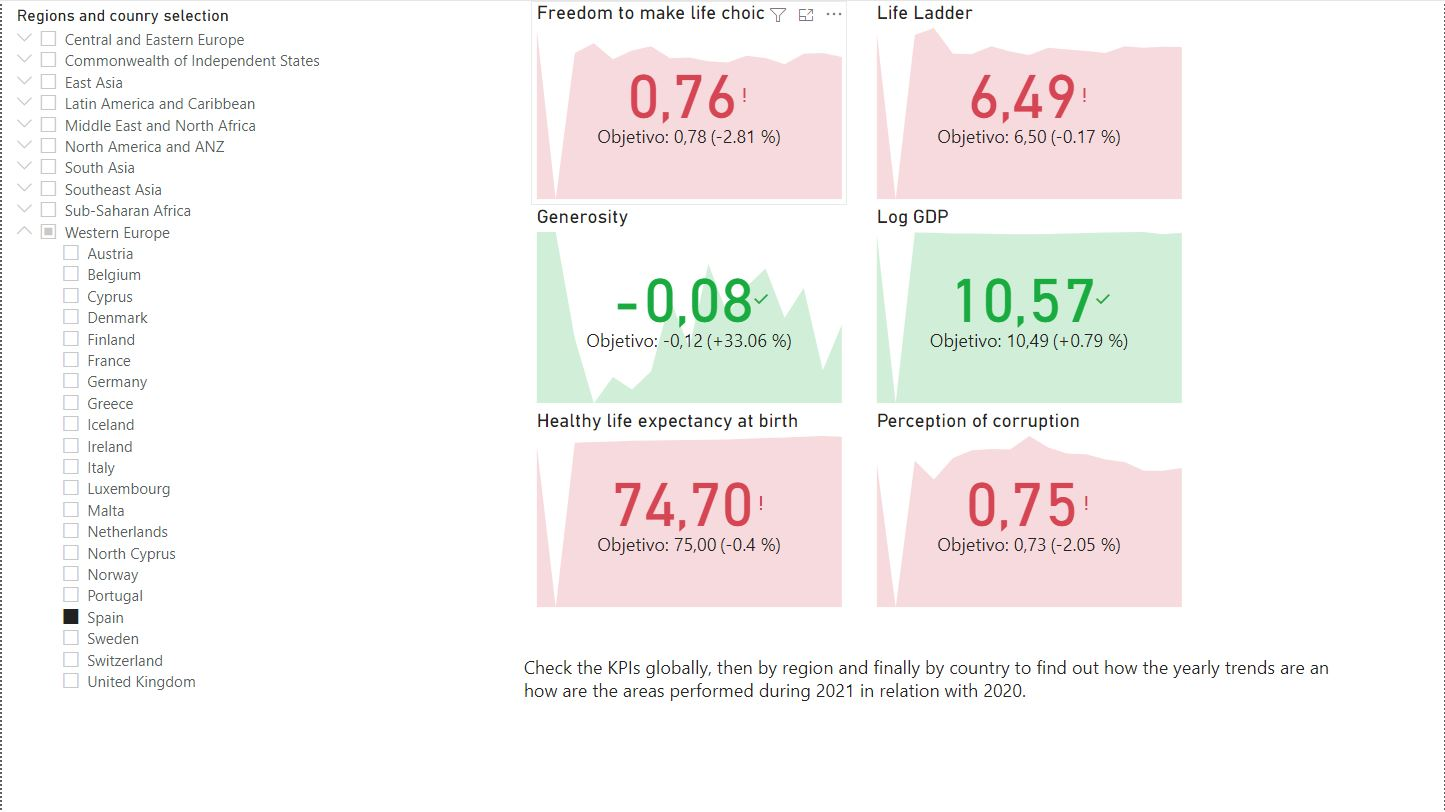

What the dashboard file says about the page in this screenshot:
{"tool":"powerbi","page":{"name":"KPIs","canvas":[1280,720],"ordinal":3},"visuals":[{"type":"kpi","title":"Freedom to make life choices","fields":{"TrendLine":["Indexes Complete.year"],"Indicator":["Avg(Indexes Complete.Freedom to make life choices)"],"Goal":["Indexes Complete.PY_Choices"]},"box":[469.3,0,280.7,181],"z":0},{"type":"slicer","fields":{"Values":["country-region.Regional indicator","country-region.Country name"]},"box":[0,0,375,719.7],"z":1},{"type":"kpi","title":"Generosity","fields":{"TrendLine":["Indexes Complete.year"],"Indicator":["Avg(Indexes Complete.Generosity)"],"Goal":["Indexes Complete.PY_Generosity"]},"box":[469.3,181,280.7,181],"z":2},{"type":"kpi","title":"Healthy life expectancy at birth","fields":{"TrendLine":["Indexes Complete.year"],"Indicator":["Avg(Indexes Complete.Healthy life expectancy at birth)"],"Goal":["Indexes Complete.PY_LifeExp"]},"box":[469.3,362,280.7,181],"z":3},{"type":"kpi","title":"Life Ladder","fields":{"TrendLine":["Indexes Complete.year"],"Indicator":["Avg(Indexes Complete.Life Ladder)"],"Goal":["Indexes Complete.PY_Ladder"]},"box":[771.7,0,280.7,181],"z":4},{"type":"kpi","title":"Log GDP","fields":{"TrendLine":["Indexes Complete.year"],"Indicator":["Avg(Indexes Complete.Log GDP per capita)"],"Goal":["Indexes Complete.PY_LogGDP"]},"box":[771.7,181,280.7,181],"z":5},{"type":"kpi","title":"Perception of corruption","fields":{"TrendLine":["Indexes Complete.year"],"Goal":["Indexes Complete.PY_Corr"],"Indicator":["Avg(Indexes Complete.Perception of corruption)"]},"box":[771.7,362,280.7,181],"z":6},{"type":"textbox","box":[458.5,575.5,748.9,127.9],"z":7}]}

Visuals, with their boxes on the page's 1280x720 design canvas (x1, y1, x2, y2). These are canvas units, not pixel positions in the 1445x812 screenshot, which may show the page scaled, cropped or inside an application window:
"Freedom to make life choices" kpi: <region>469, 0, 750, 181</region>
slicer - country-region.Regional indicator x country-region.Country name: <region>0, 0, 375, 720</region>
"Generosity" kpi: <region>469, 181, 750, 362</region>
"Healthy life expectancy at birth" kpi: <region>469, 362, 750, 543</region>
"Life Ladder" kpi: <region>772, 0, 1052, 181</region>
"Log GDP" kpi: <region>772, 181, 1052, 362</region>
"Perception of corruption" kpi: <region>772, 362, 1052, 543</region>
textbox: <region>458, 576, 1207, 703</region>
